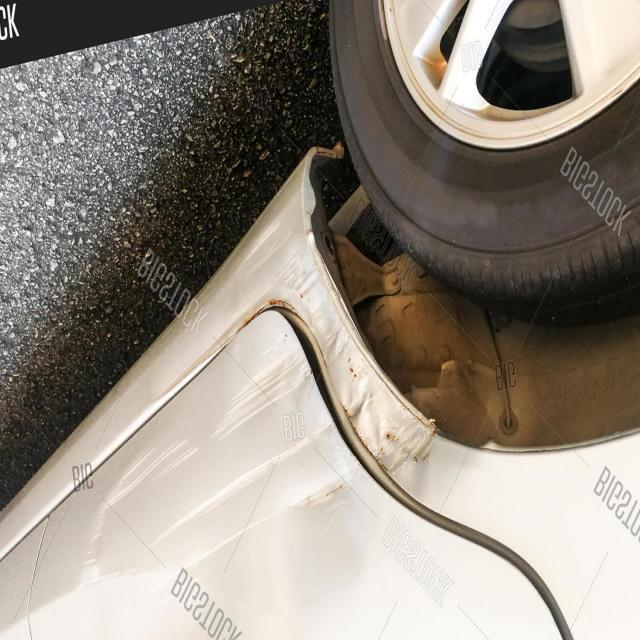dent: (261, 276, 440, 498)
